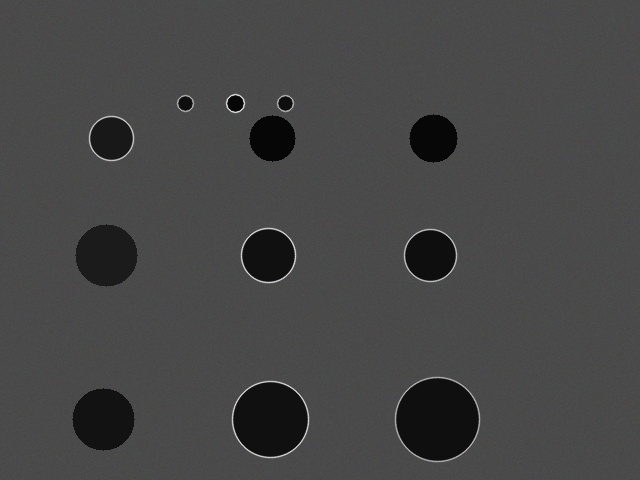hole: (395, 377, 479, 461), (232, 381, 308, 457), (75, 224, 137, 286), (72, 388, 134, 450), (241, 228, 295, 282), (404, 229, 456, 281), (409, 114, 457, 162), (249, 115, 295, 161), (89, 116, 133, 160), (226, 94, 244, 112), (177, 95, 193, 111), (277, 95, 293, 111)
